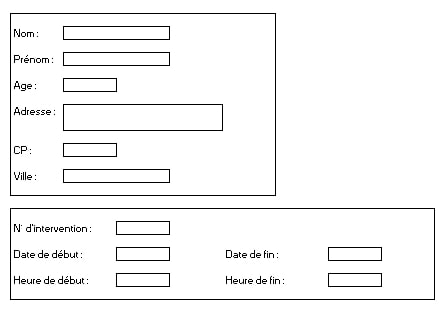input: (58, 100, 226, 135), (59, 46, 172, 71), (59, 22, 174, 44), (59, 166, 175, 187), (323, 240, 386, 265), (111, 244, 176, 267), (112, 215, 174, 239), (323, 270, 387, 292), (58, 75, 130, 94), (58, 141, 126, 161), (110, 271, 175, 291)
text: (11, 221, 95, 240), (12, 271, 93, 289), (219, 243, 287, 263), (11, 246, 86, 262), (217, 273, 289, 289), (12, 104, 57, 121), (12, 51, 56, 68), (12, 167, 41, 187), (11, 141, 40, 160), (12, 24, 42, 42), (12, 78, 40, 97)
